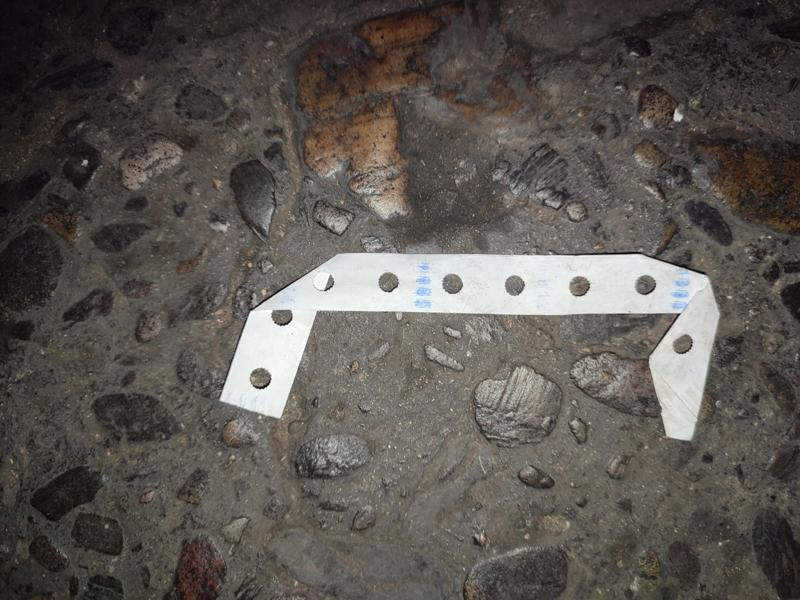papel: (219, 253, 721, 442)
